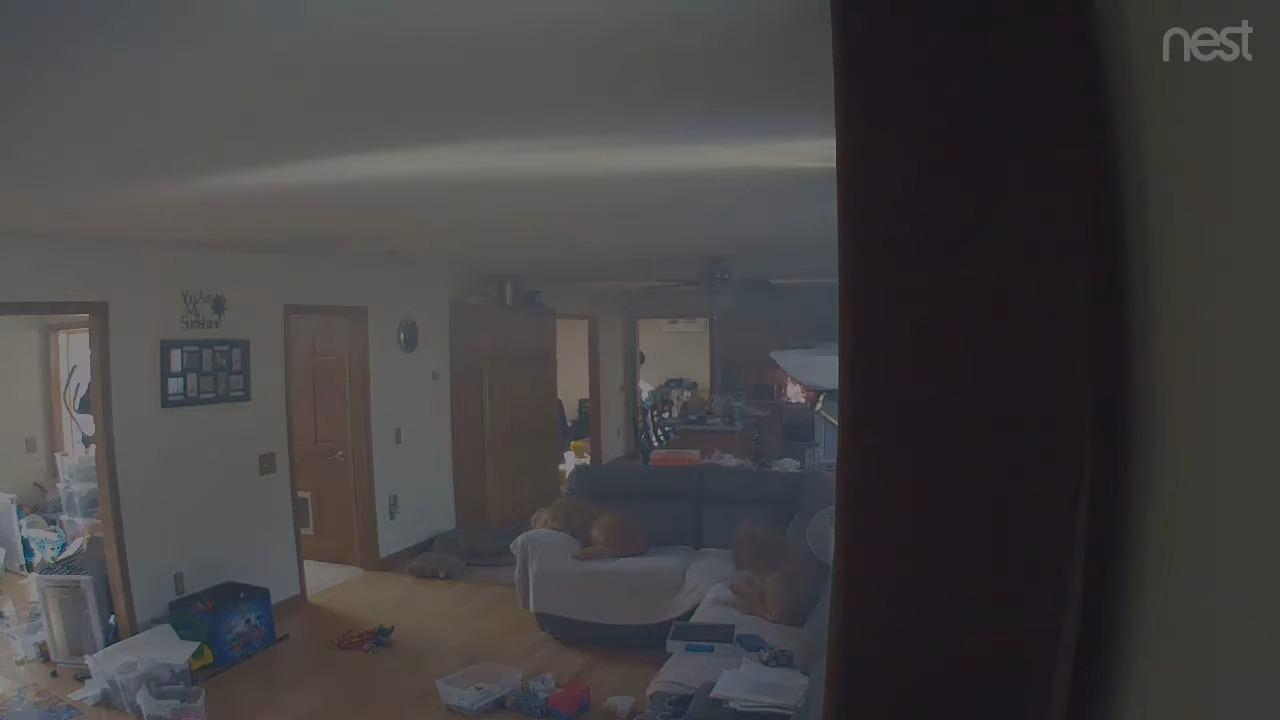fire: (786, 377, 806, 403)
